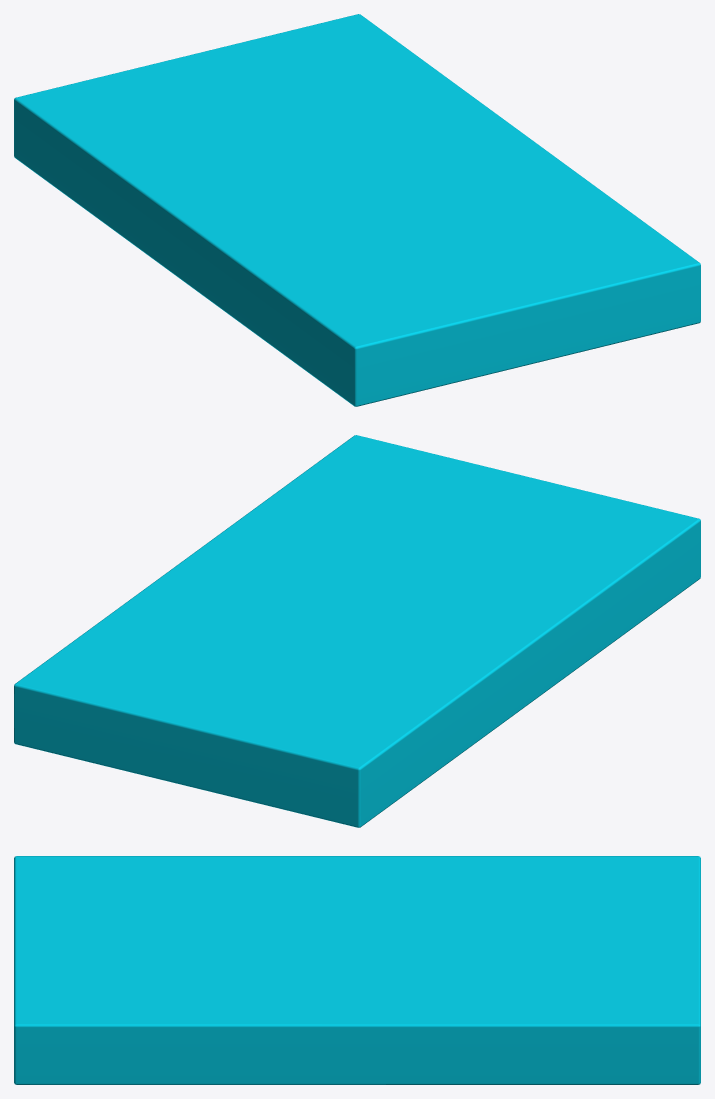
Rendered from interior_passenger_blue_leather_accent.glb.
3 renders of one model, top to bottom at view 1: azimuth 30°, elevation 25°; view 2: azimuth 150°, elevation 25°; view 3: azimuth 270°, elevation 25°, orthographic.
Visible parts, largest first — view 1: INTERIOR_Passenger_Blue_Leather_Accent; view 2: INTERIOR_Passenger_Blue_Leather_Accent; view 3: INTERIOR_Passenger_Blue_Leather_Accent.
Boxes of the visible parts, bbox=[...] form: INTERIOR_Passenger_Blue_Leather_Accent: bbox=[14, 14, 700, 406]; INTERIOR_Passenger_Blue_Leather_Accent: bbox=[14, 435, 700, 827]; INTERIOR_Passenger_Blue_Leather_Accent: bbox=[14, 856, 700, 1084].
Size of the model in its own units: 0.48 by 0.08 by 0.82.
